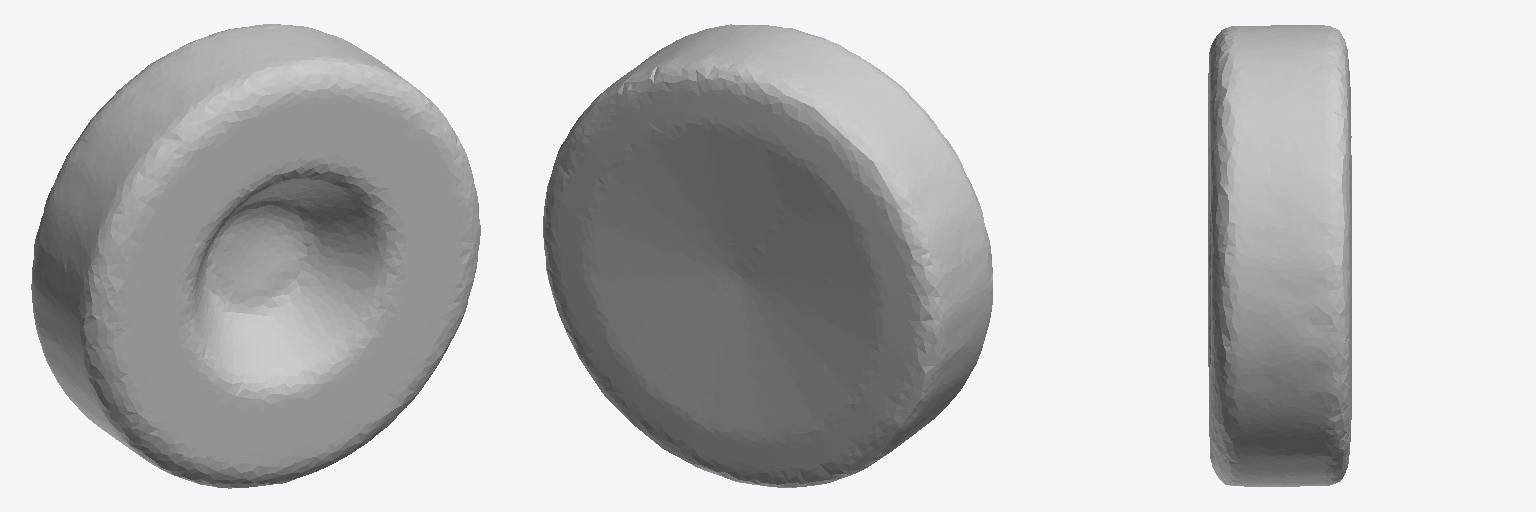
The model's file is Amulet_July_Lobe_22.obj.
3 views of the same model, side by side, from view 1: azimuth 30°, elevation 25°; view 2: azimuth 150°, elevation 25°; view 3: azimuth 270°, elevation 25° (orthographic).
Bounding box in the file's own units: 22.05 × 21.99 × 6.88.